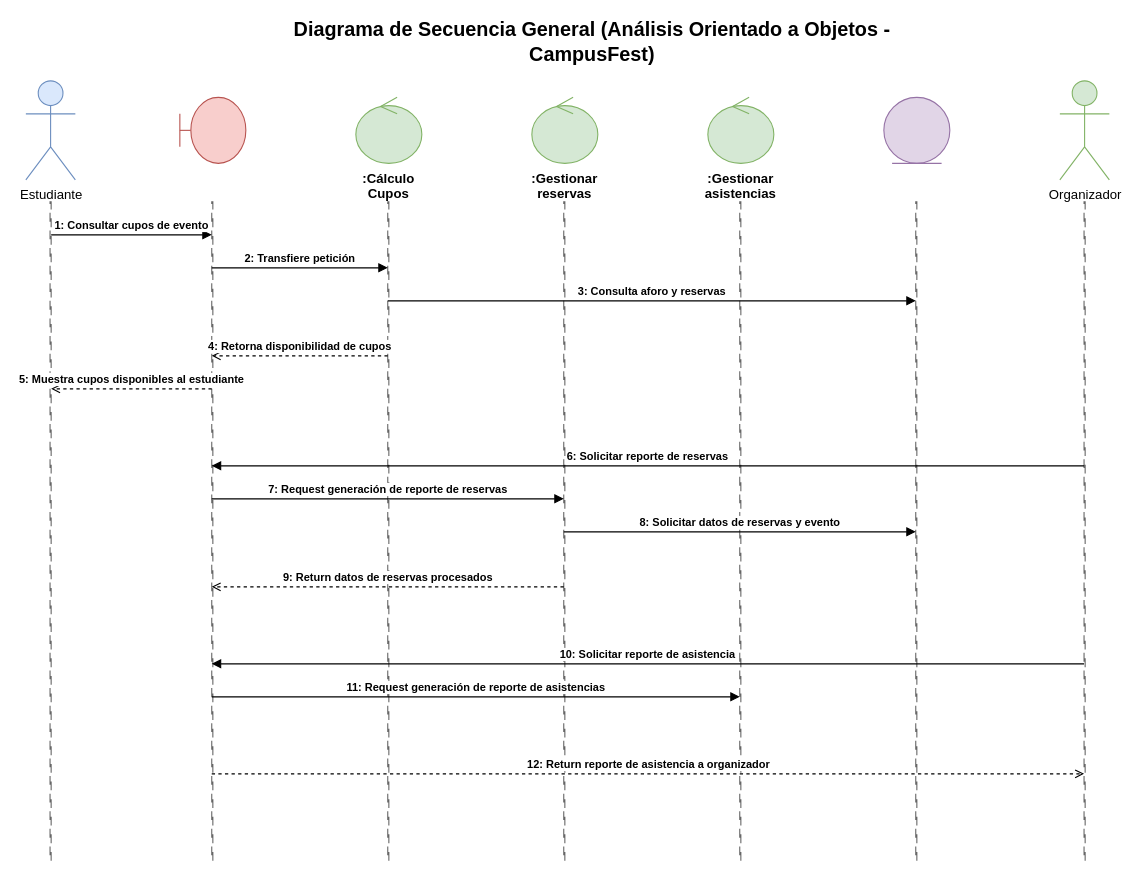
Image size: 1140x881. Some labels were removed from this diagram. Here are the shapes that lost their labels. From the top down, the box of each, then its label:
(179, 96, 246, 163): :Interfaz CampusFest
(883, 96, 950, 163): :Evento
